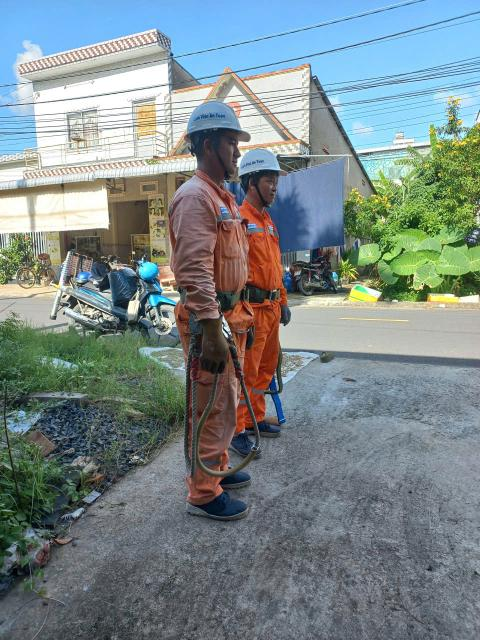gloves: (193, 308, 232, 372), (272, 298, 296, 330)
harness: (174, 272, 252, 318), (240, 271, 288, 310)
helmet: (167, 86, 258, 145), (228, 132, 284, 180)
shoes: (194, 484, 254, 527), (219, 409, 264, 463), (213, 446, 253, 493), (245, 403, 283, 440)
